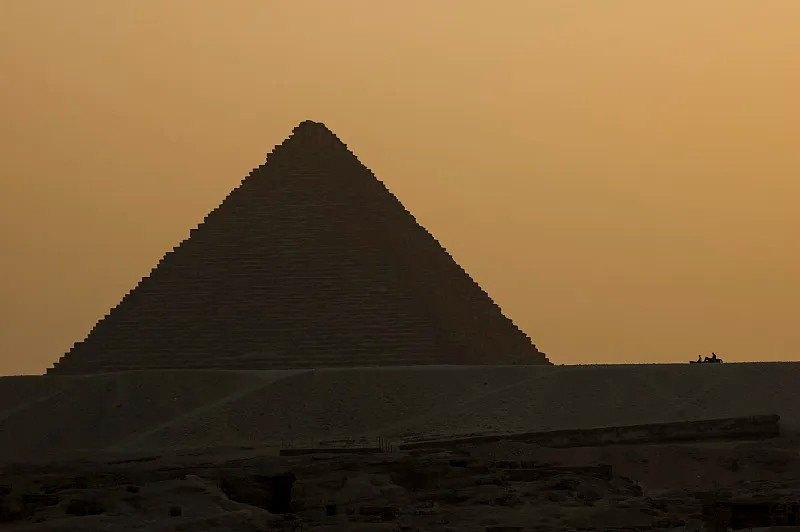Pyramid: (48, 120, 555, 369)
